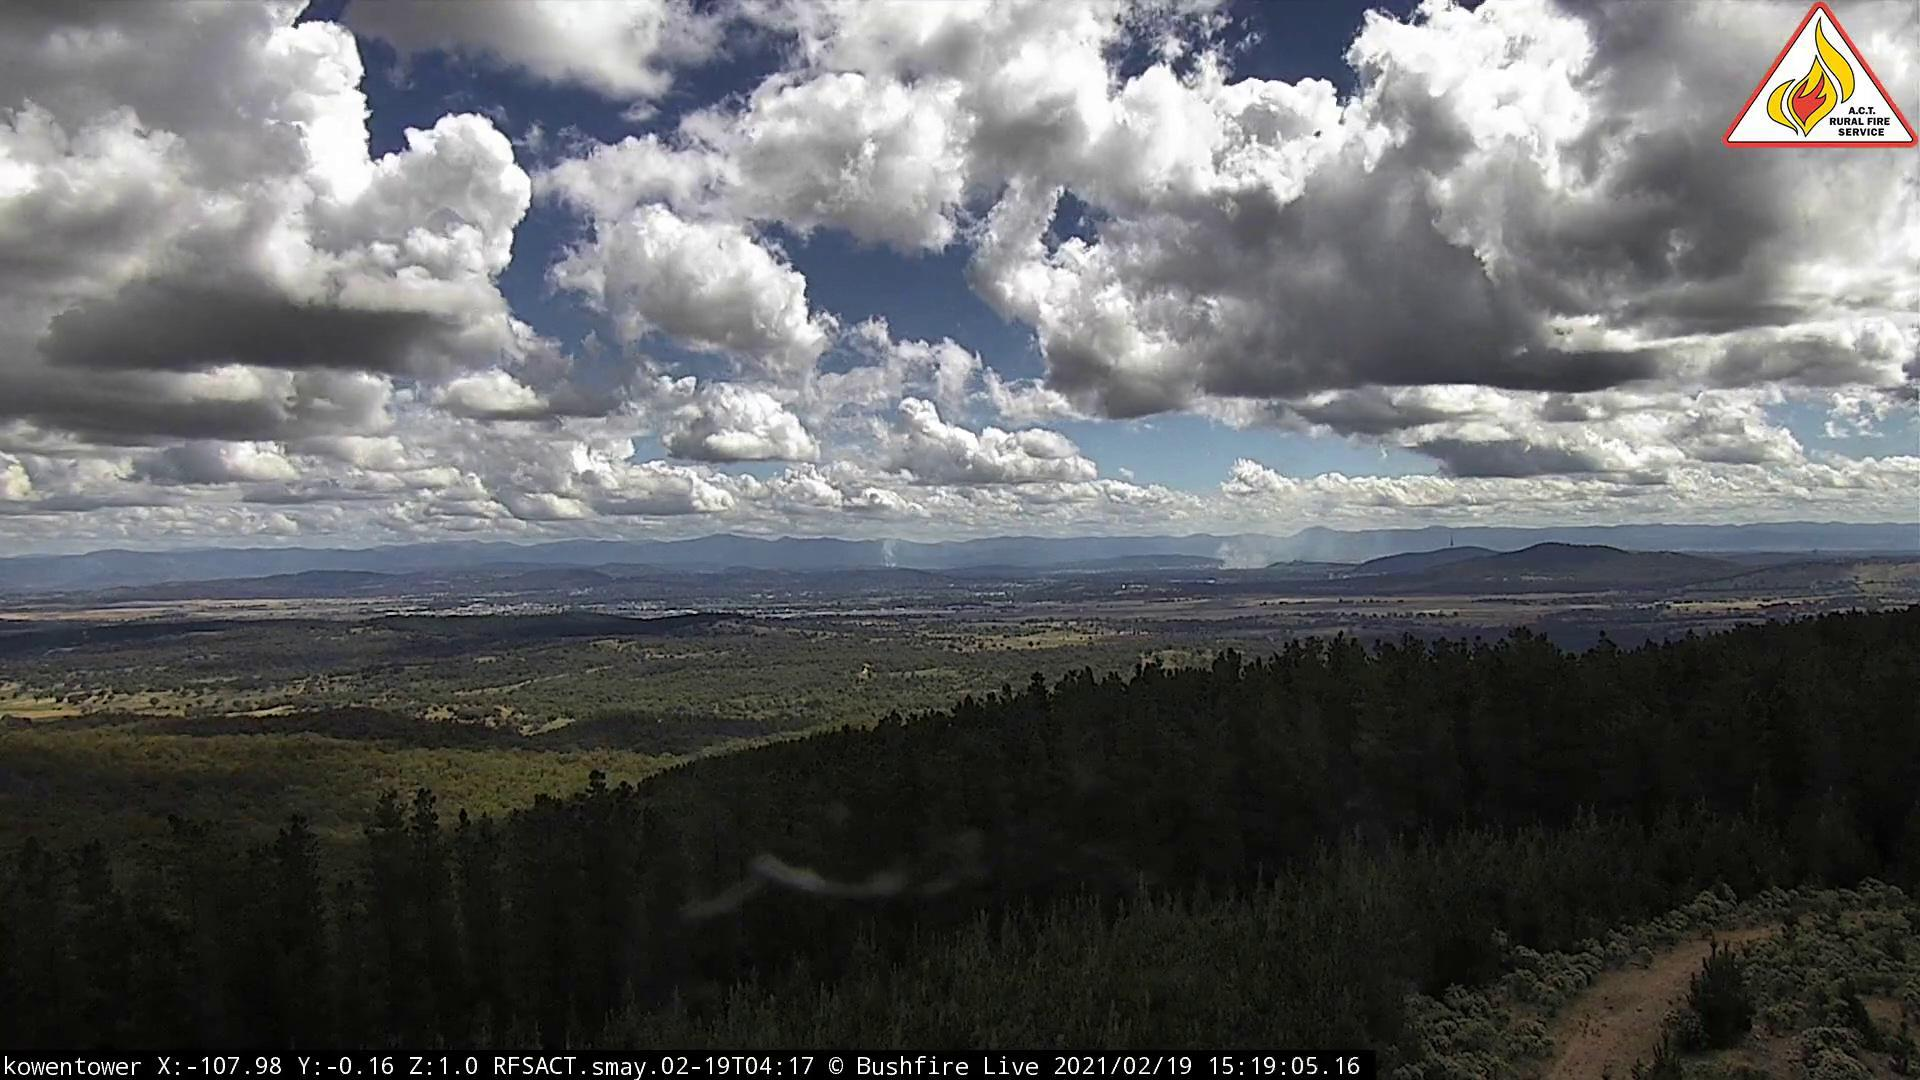instance_salient_object: (1213, 530, 1288, 582), (876, 542, 911, 574)
